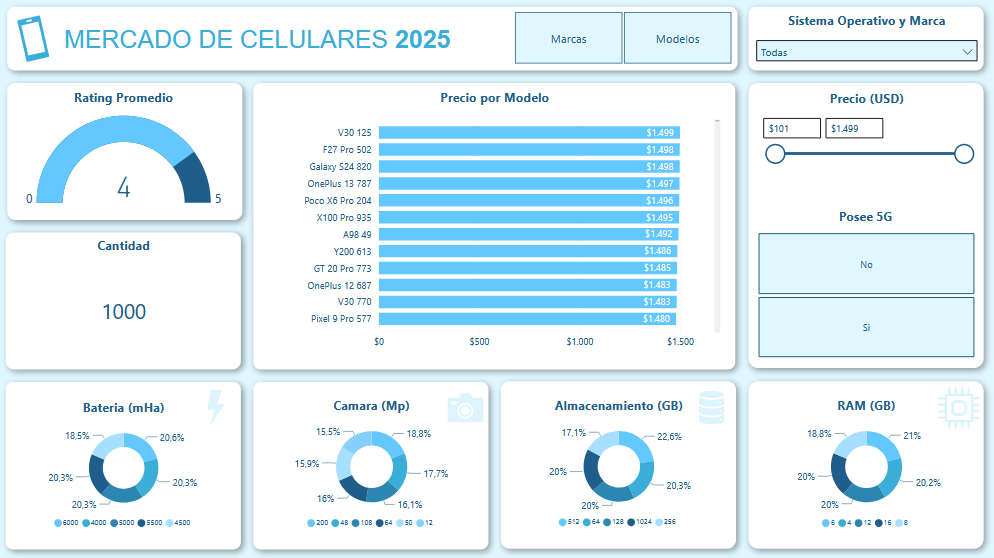

What the dashboard file says about the page in this screenshot:
{"tool":"powerbi","page":{"name":"Modelos","canvas":[1280,720],"ordinal":1},"visuals":[{"type":"slicer","title":"Precio (USD)","fields":{"Values":["Global_Mobile_Prices_2025.Price_usd"]},"box":[974.2,116.1,282.1,99.9],"z":0},{"type":"donutChart","title":"RAM (GB)","fields":{"Category":["Global_Mobile_Prices_2025.Ram_gb"],"Y":["Global_Mobile_Prices_2025.ID"]},"box":[971.3,495.2,286.5,204.2],"z":1000},{"type":"slicer","title":"Sistema Operativo y Marca","fields":{"Values":["Global_Mobile_Prices_2025.Os","Global_Mobile_Prices_2025.Brand"]},"box":[968.3,16.2,293.9,66.1],"z":2000},{"type":"donutChart","title":"Almacenamiento (GB)","fields":{"Category":["Global_Mobile_Prices_2025.Storage_gb"],"Y":["Global_Mobile_Prices_2025.ID"]},"box":[650.9,495.2,290.9,202.8],"z":3000},{"type":"barChart","title":"Precio por Modelo","fields":{"Category":["Global_Mobile_Prices_2025.Model"],"Y":["Global_Mobile_Prices_2025.Price_usd"]},"box":[332.1,99.9,609.8,367.3],"z":4000},{"type":"donutChart","title":"Bateria (mHa)","fields":{"Category":["Global_Mobile_Prices_2025.Battery_mah"],"Y":["Global_Mobile_Prices_2025.ID"]},"box":[14.7,498.1,290.9,201.3],"z":5000},{"type":"slicer","title":"Posee 5G","fields":{"Values":["Global_Mobile_Prices_2025.5G_support"]},"box":[955.1,267.4,317.4,194],"z":6000},{"type":"donutChart","title":"Camara (Mp)","fields":{"Category":["Global_Mobile_Prices_2025.Camera_mp"],"Y":["Global_Mobile_Prices_2025.ID"]},"box":[333.6,495.2,290.9,204.2],"z":7000},{"type":"card","title":"Cantidad","fields":{"Values":["Medidas.CantidadTotal"]},"box":[14.7,304.2,290.9,163.1],"z":8000},{"type":"gauge","title":"Rating Promedio","fields":{"Y":["Medidas.RatingPromedio"]},"box":[14.7,99.9,290.9,183.7],"z":9000},{"type":"actionButton","box":[663.3,16.2,138.1,66.1],"z":10000},{"type":"actionButton","box":[802.8,16.2,138.1,66.1],"z":11000}]}

Visuals, with their boxes in screenshot pixels (x1, y1, x2, y2), scaled from the page's 1280x720 canvas onto the 994x558 screenshot:
"Precio (USD)" slicer: [757,90,976,167]
"RAM (GB)" donutChart: [754,384,977,542]
"Sistema Operativo y Marca" slicer: [752,13,980,64]
"Almacenamiento (GB)" donutChart: [505,384,731,541]
"Precio por Modelo" barChart: [258,77,731,362]
"Bateria (mHa)" donutChart: [11,386,237,542]
"Posee 5G" slicer: [742,207,988,358]
"Camara (Mp)" donutChart: [259,384,485,542]
"Cantidad" card: [11,236,237,362]
"Rating Promedio" gauge: [11,77,237,220]
actionButton: [515,13,622,64]
actionButton: [623,13,731,64]
